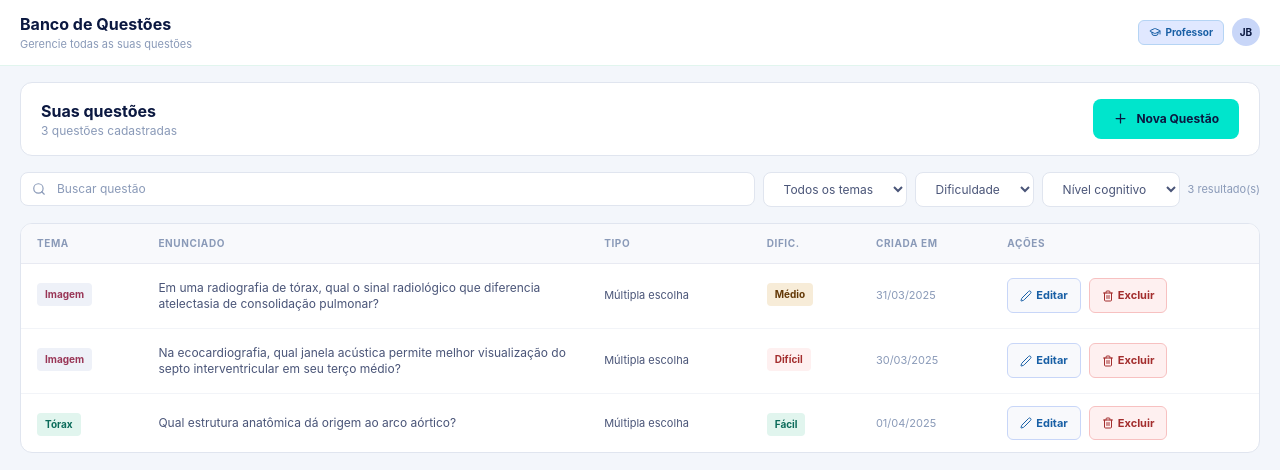
Test: QuestionsPage › filters questions by topic and difficulty
Expected: the text "atelectasia" is shown, [158,280,540,310]
Select "Tórax" in the dropdown named "Filtrar por tema". click: coordinates (835, 189)
box: [763,172,907,206]
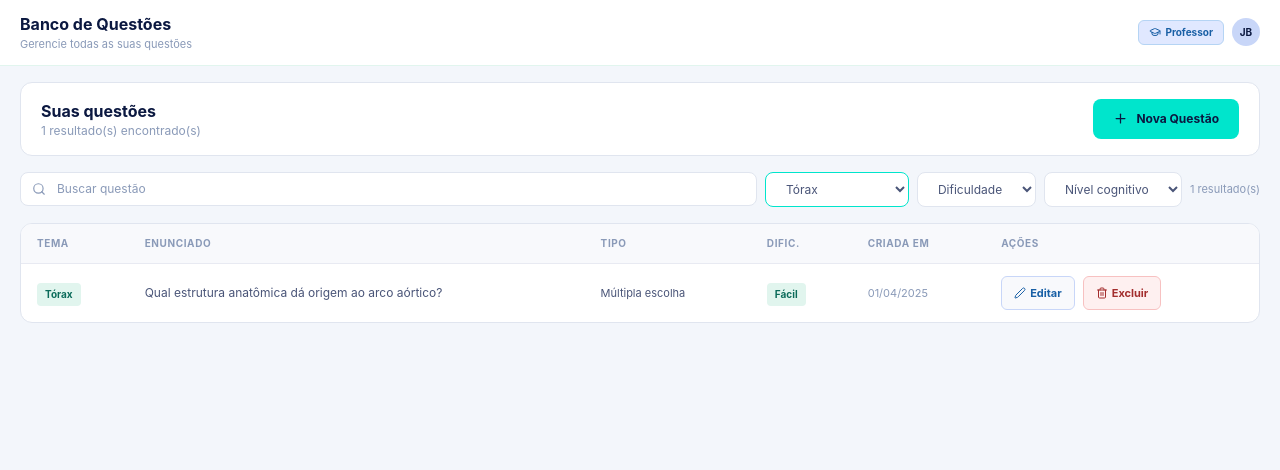
Now the text "atelectasia" is gone
Now the text "janela acústica" is gone
Now the text "1 resultado(s)" is shown, box [1190,181,1260,197]
Select "Todos os temas" in the dropdown named "Filtrar por tema". click: coordinates (837, 189)
box: [765,172,909,206]
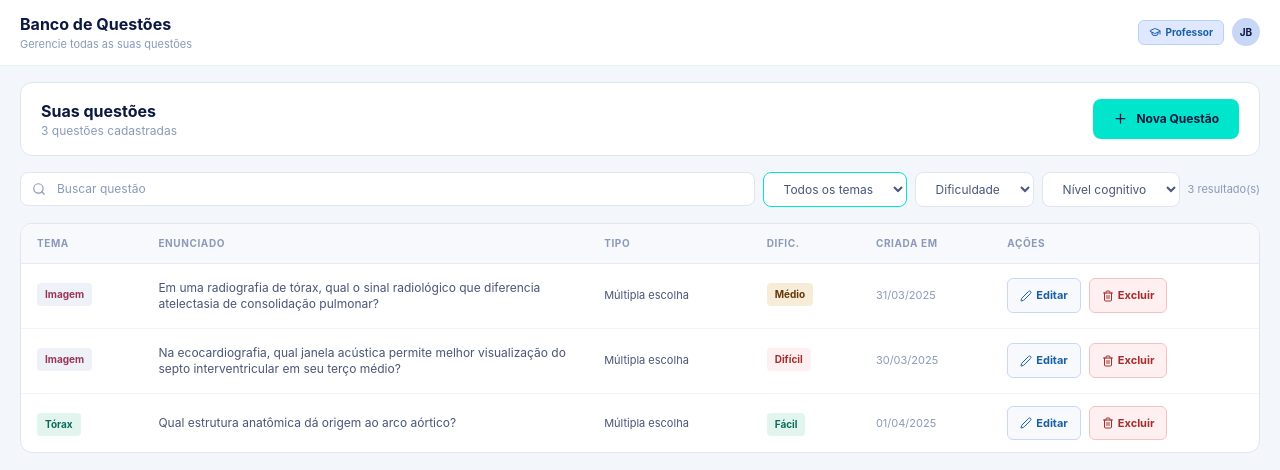
Select "Difícil" in the dropdown named "Filtrar por dificuldade". click: coordinates (974, 189)
box: [915,172,1034,206]
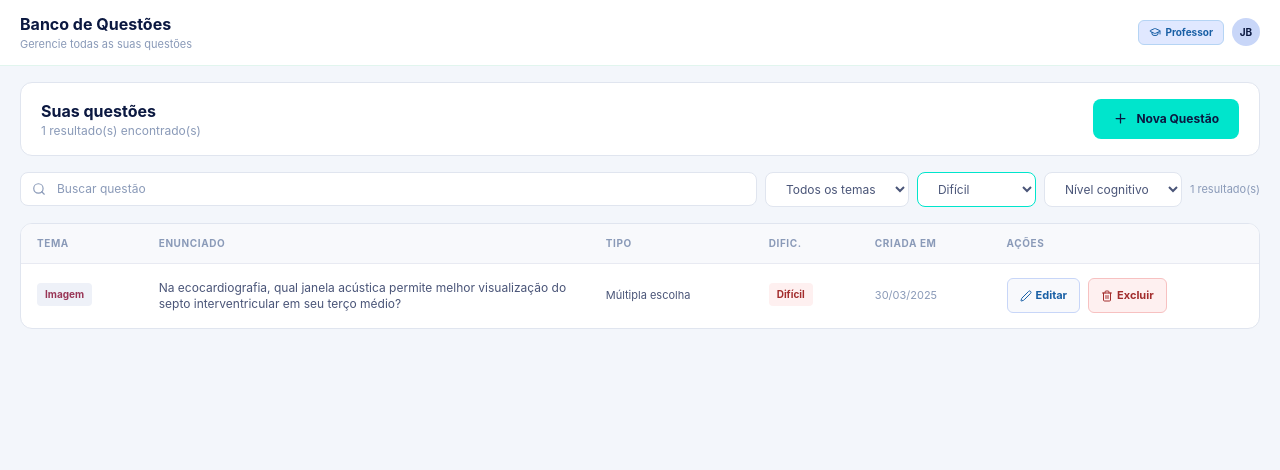
Now the text "janela acústica" is shown, box [159,280,566,310]
Now the text "atelectasia" is gone
Now the text "arco aórtico" is gone
